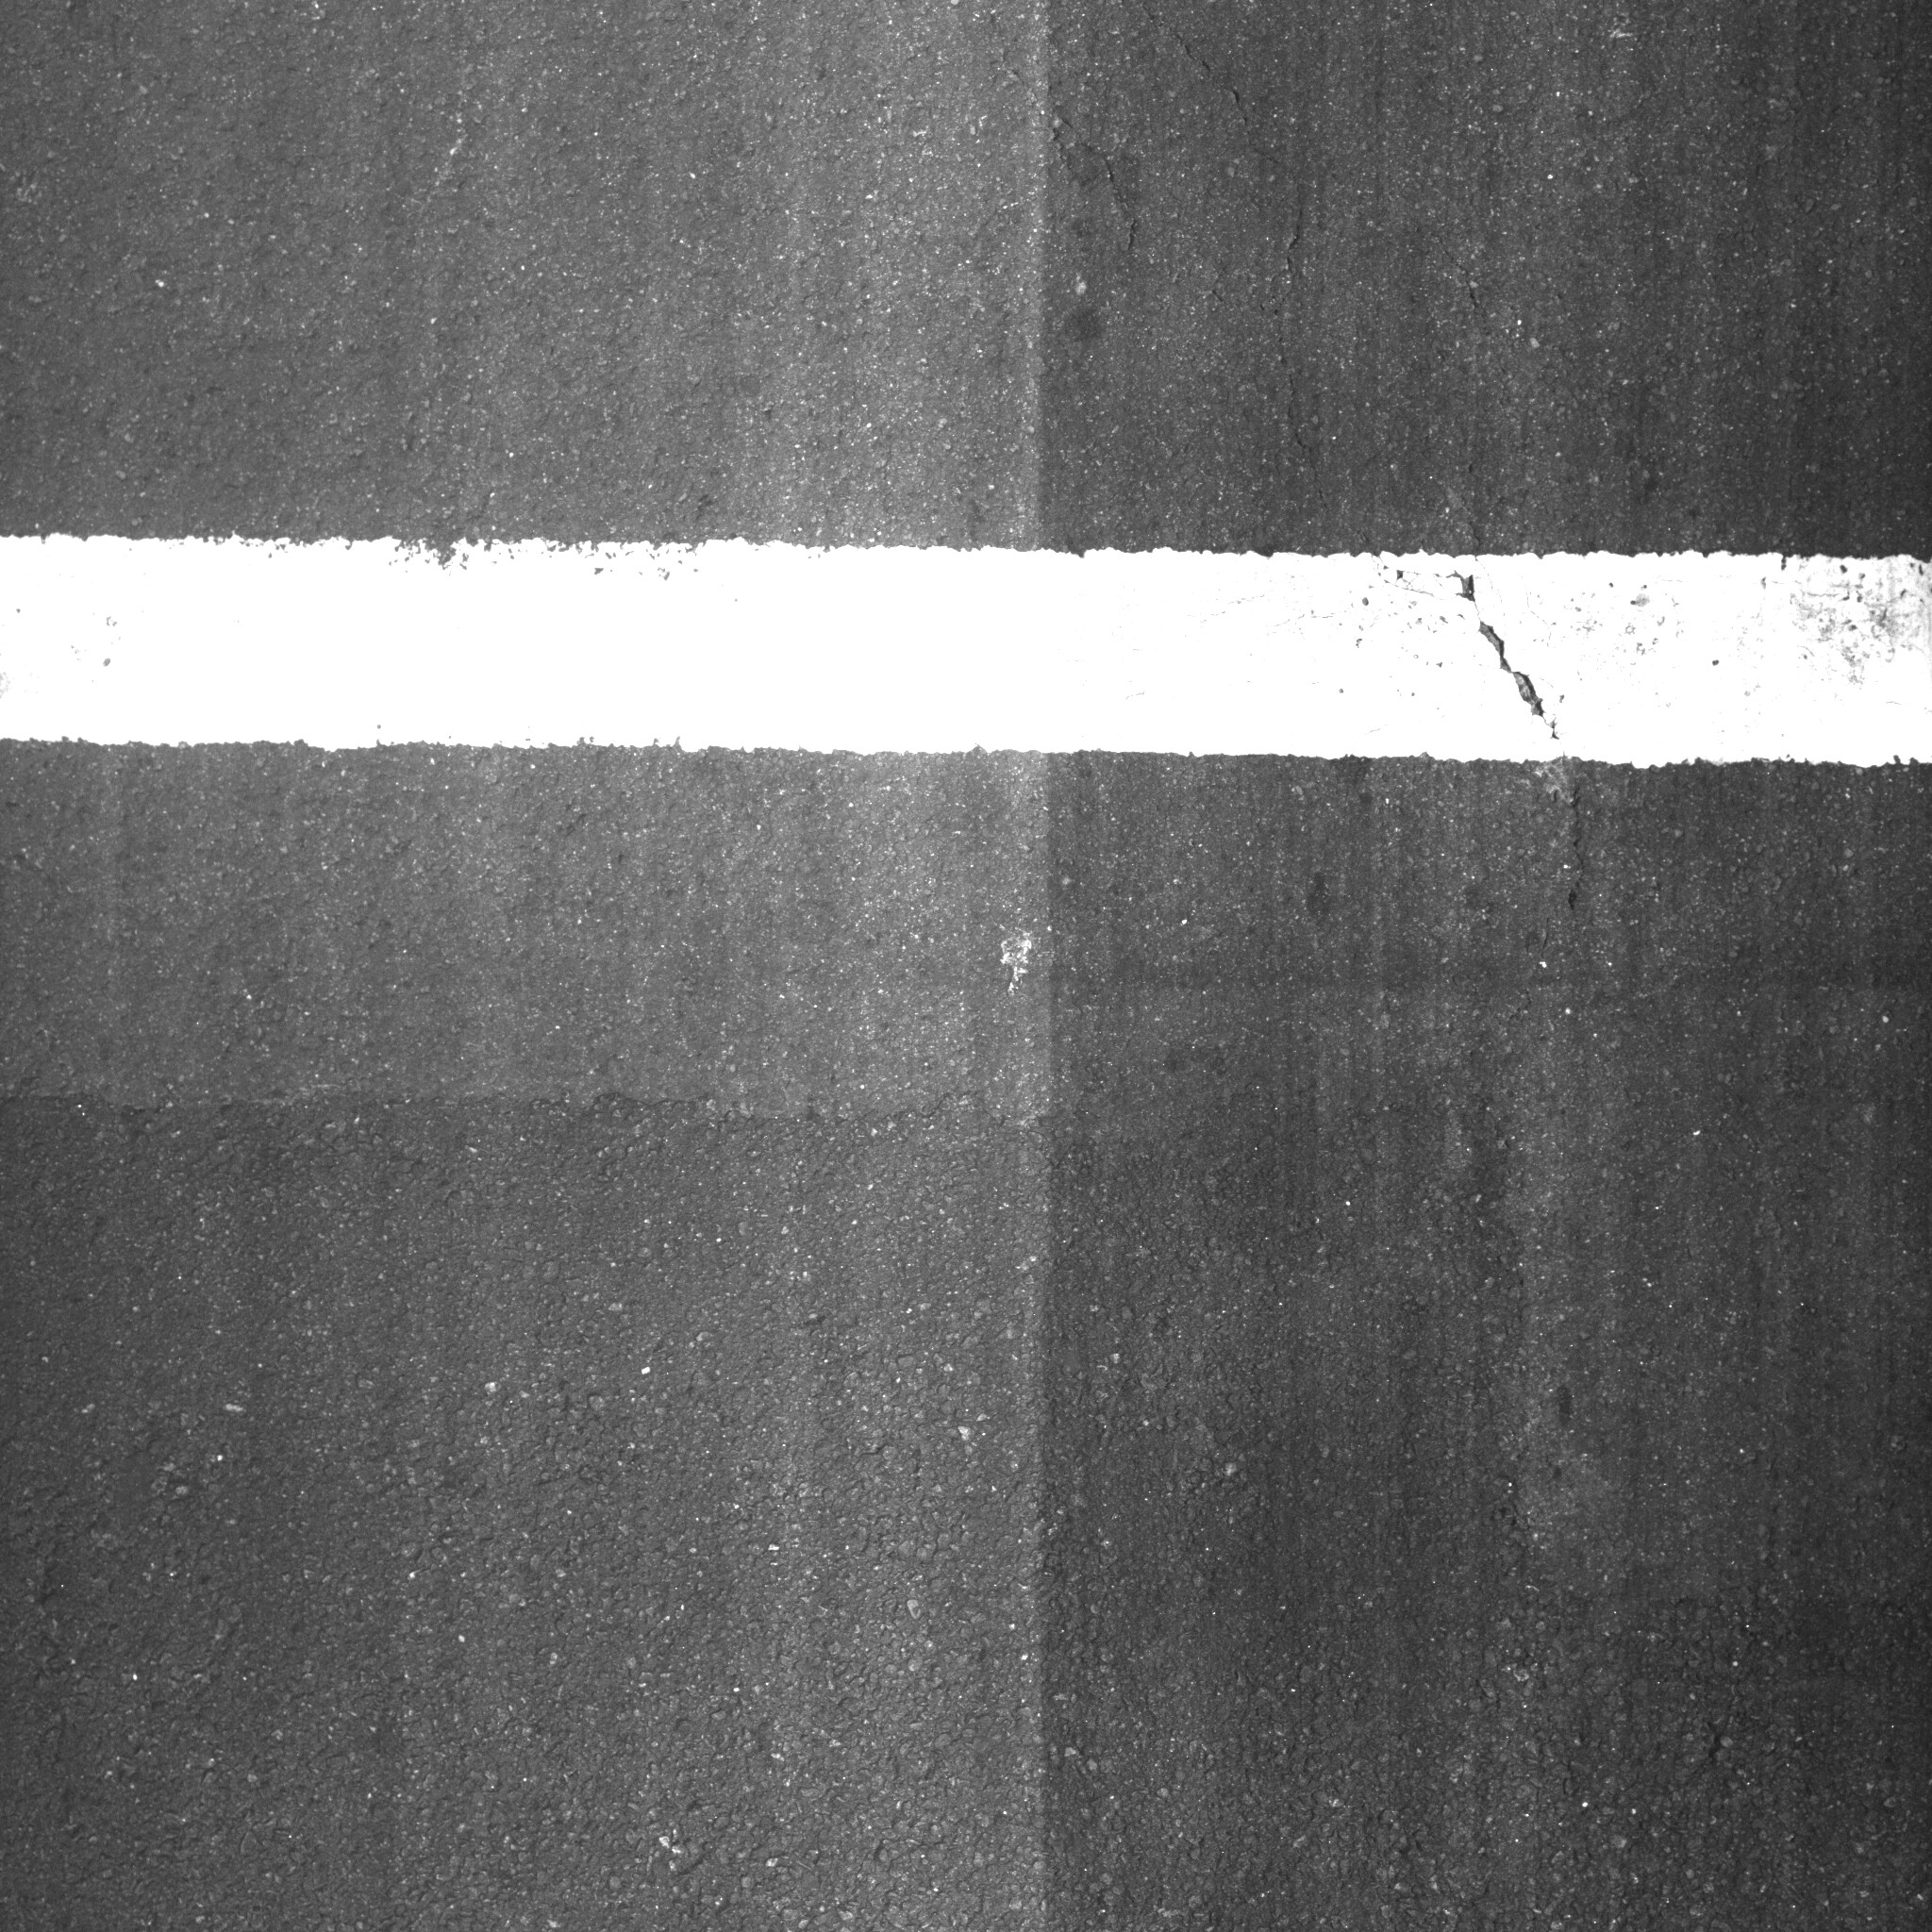longitudinal: (1447, 433, 1624, 1056)
